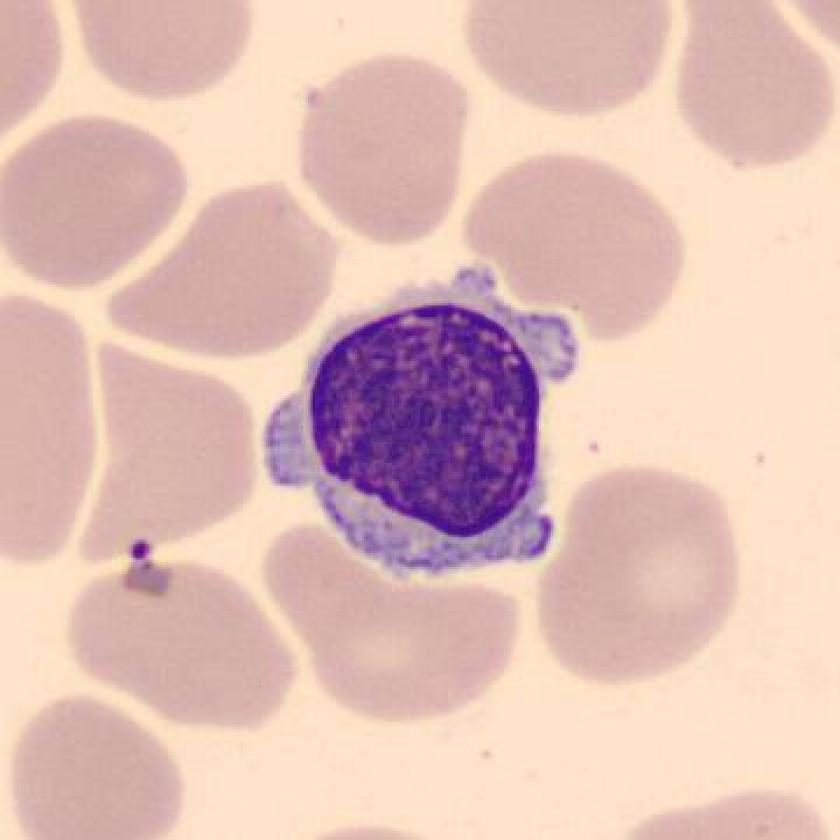lymphocyte: (253, 249, 596, 603)
